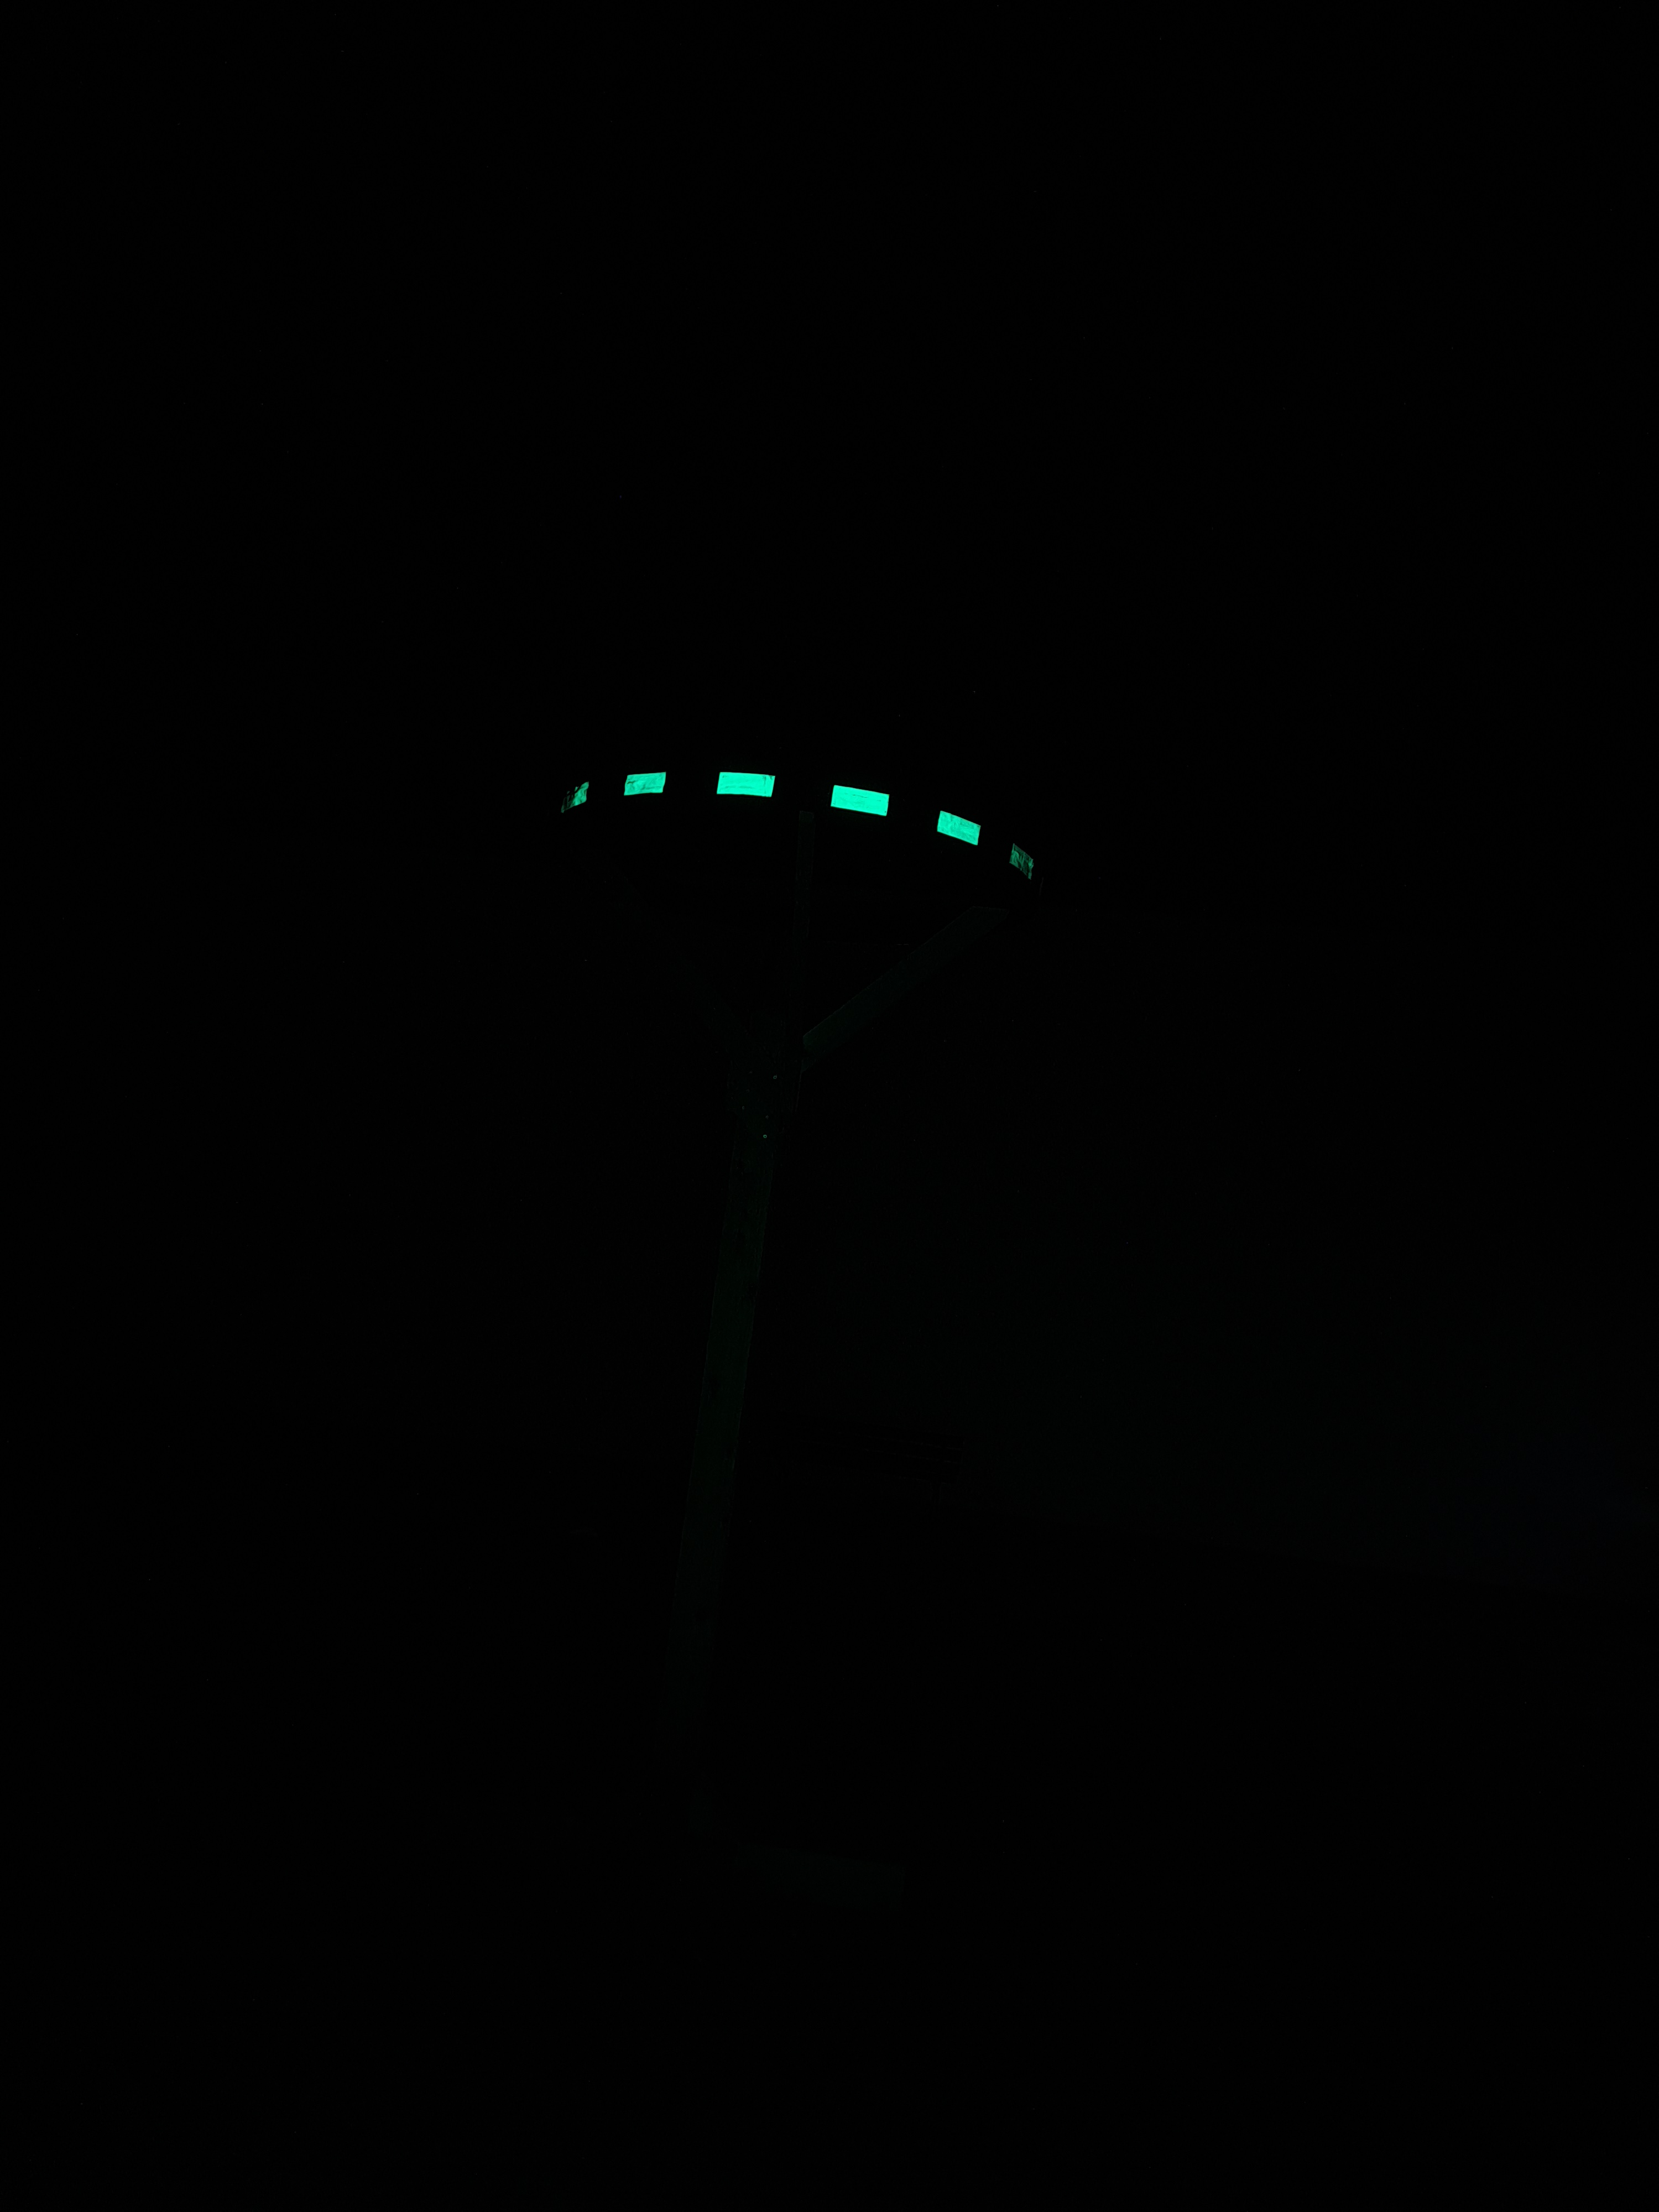hoop: (556, 763, 1040, 890)
